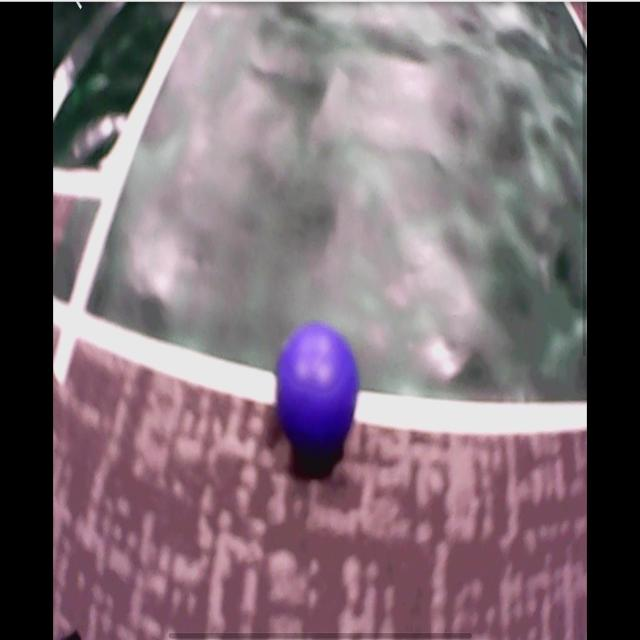ball: (278, 322, 359, 456)
